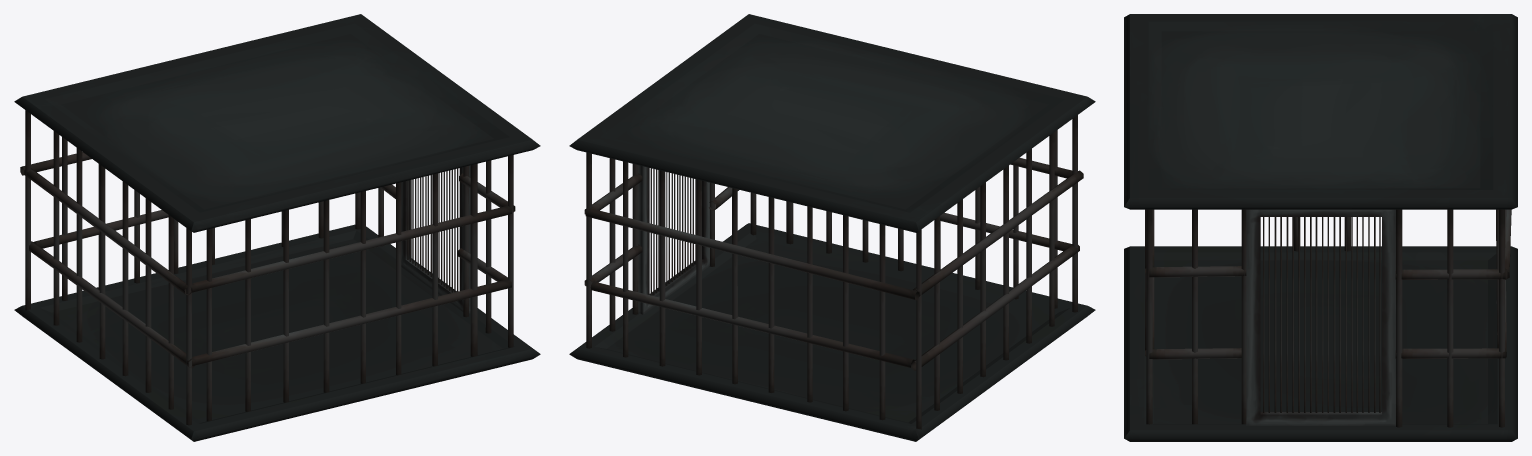
The model's file is Cage.fbx.
3 renders of one model, left to right at view 1: azimuth 30°, elevation 25°; view 2: azimuth 150°, elevation 25°; view 3: azimuth 270°, elevation 25°, orthographic. The views are drawn at different scales.
Visible parts, largest first — view 1: CageTopBottom, CageTopBottom1, CageBar118, CageBar117, CageDoorFrame, CageBar119, CageBar121, CageBar50, CageBar66, CageBar93, CageBar97, CageBar84 (+16 smaller); view 2: CageTopBottom, CageTopBottom1, CageBar120, CageBar122, CageDoorFrame, CageBar119, CageBar121, CageBar41, CageBar29, CageBar17, CageBar44, CageBar9 (+20 smaller); view 3: CageTopBottom, CageTopBottom1, CageDoorFrame, CageBar1, CageBar5, CageBar46, CageBar9, CageBar116, CageBar112, CageBar126, CageBar125, CageBar123 (+24 smaller).
Part boxes in pixels (box(x1,y1,x2,y2)): CageTopBottom: box(14, 14, 540, 232); CageTopBottom1: box(14, 224, 540, 441); CageBar118: box(191, 279, 511, 365); CageBar117: box(191, 206, 511, 292); CageDoorFrame: box(401, 165, 470, 313); CageBar119: box(24, 168, 192, 295); CageBar121: box(29, 241, 195, 367); CageBar50: box(470, 163, 477, 356); CageBar66: box(323, 200, 329, 392); CageBar93: box(99, 165, 105, 359); CageBar97: box(122, 181, 128, 376); CageBar84: box(53, 131, 59, 325); CageTopBottom: box(569, 14, 1095, 232); CageTopBottom1: box(569, 223, 1095, 441); CageBar120: box(585, 208, 919, 300); CageBar122: box(591, 281, 914, 367); CageDoorFrame: box(638, 165, 709, 314); CageBar119: box(913, 170, 1083, 296); CageBar121: box(911, 245, 1079, 370); CageBar41: box(879, 224, 885, 420); CageBar29: box(768, 197, 774, 392); CageBar17: box(659, 170, 665, 366); CageBar44: box(916, 229, 921, 429); CageBar9: box(586, 152, 591, 348); CageTopBottom: box(1124, 14, 1517, 209); CageTopBottom1: box(1124, 246, 1517, 441); CageDoorFrame: box(1246, 209, 1395, 425); CageBar1: box(1396, 209, 1402, 427); CageBar5: box(1447, 209, 1453, 427); CageBar46: box(1146, 209, 1152, 424); CageBar9: box(1499, 209, 1504, 427); CageBar116: box(1241, 209, 1246, 424); CageBar112: box(1192, 209, 1197, 424); CageBar126: box(1395, 348, 1505, 358); CageBar125: box(1395, 269, 1505, 279); CageBar123: box(1149, 266, 1246, 277).
Size of the model in its own units: 10.21 by 6.13 by 8.96.
